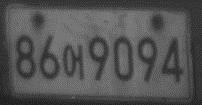0: (113, 35, 133, 81)
4: (161, 36, 183, 84)
6: (39, 34, 60, 79)
8: (15, 34, 37, 80)
9: (87, 36, 109, 83), (136, 36, 157, 83)
어: (63, 42, 85, 82)
